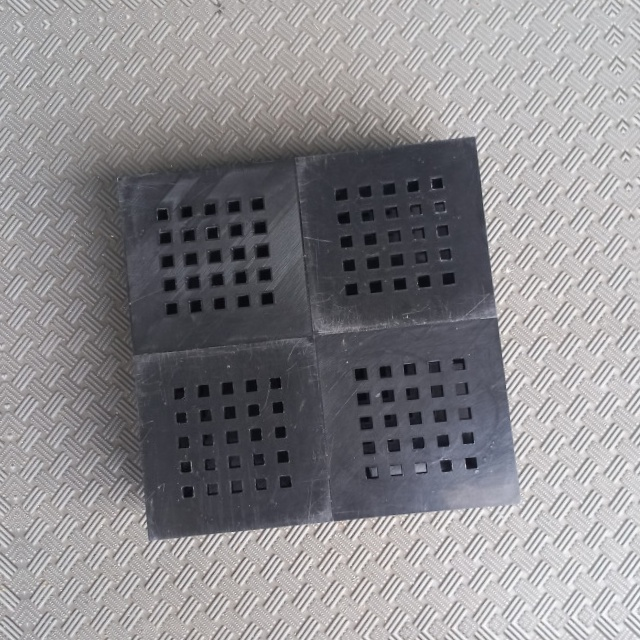pallet: (110, 125, 538, 548)
